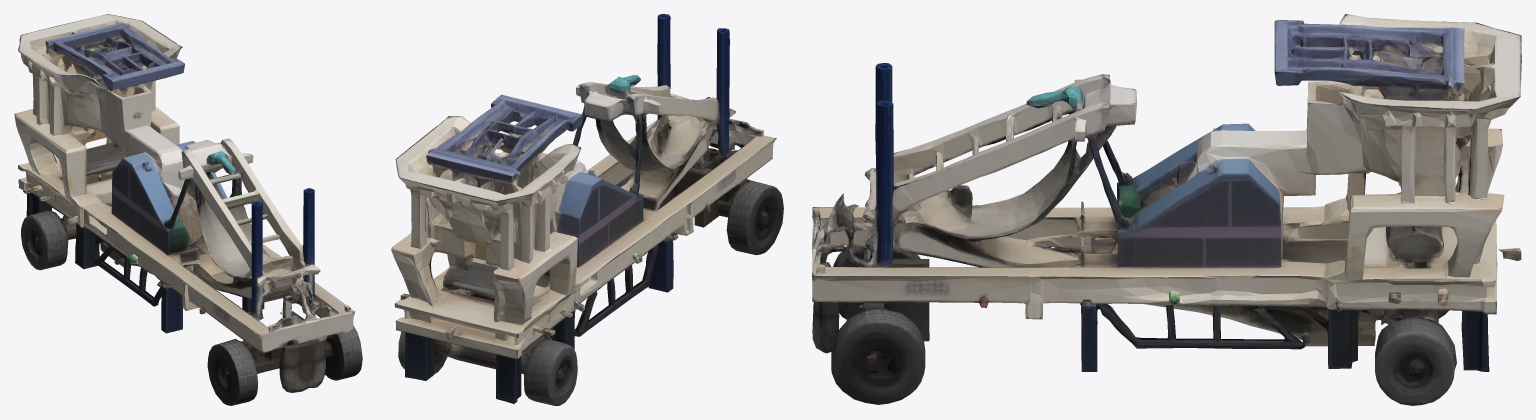
Rendered from wheel_mounted-mobile-project.glb.
3 renders of one model, left to right at view 1: azimuth 30°, elevation 25°; view 2: azimuth 150°, elevation 25°; view 3: azimuth 270°, elevation 25°, orthographic. The views are drawn at different scales.
Visible parts, largest first — view 1: geometry_0; view 2: geometry_0; view 3: geometry_0.
Part boxes in pixels (box(x1,y1,x2,y2)): geometry_0: box(14, 14, 362, 405); geometry_0: box(391, 14, 783, 405); geometry_0: box(812, 14, 1521, 405).
Size of the model in its own units: 0.3175 by 0.4896 by 0.9976.
Materials: 1 (1 with a texture image).
